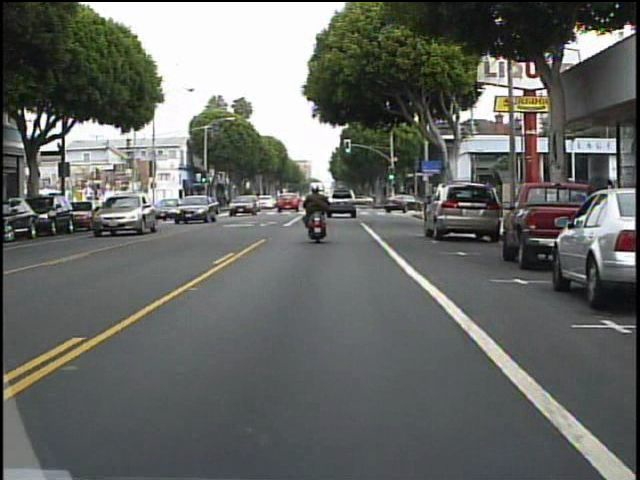person: (300, 181, 335, 242)
